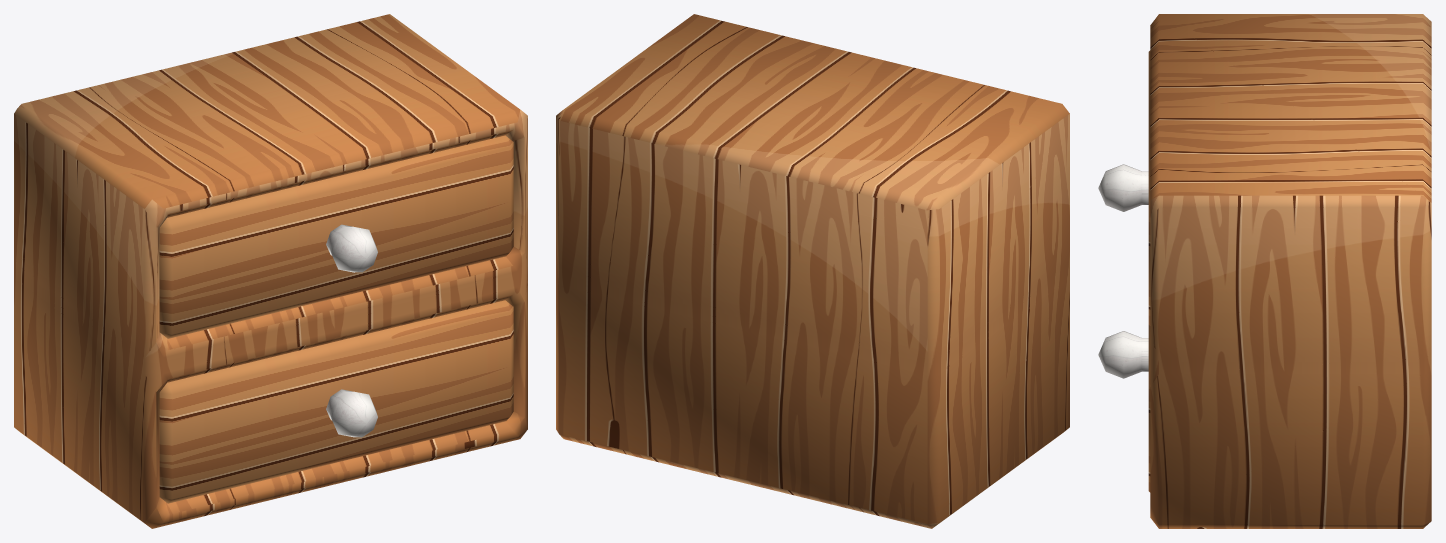
The model's file is cajonera.fbx.
The picture shows the model from 3 angles, left to right: view 1: azimuth 30°, elevation 25°; view 2: azimuth 150°, elevation 25°; view 3: azimuth 270°, elevation 25°; orthographic projection.
Visible parts, largest first — view 1: Cajonerita, CajoneritaCajon_Down, CajoneritaCajon_Top; view 2: Cajonerita; view 3: Cajonerita, CajoneritaCajon_Top, CajoneritaCajon_Down.
Boxes of the visible parts, x1,y1,x2,y2 form: Cajonerita: (14,14,527,528); CajoneritaCajon_Down: (159,300,513,503); CajoneritaCajon_Top: (159,135,513,338); Cajonerita: (556,14,1069,528); Cajonerita: (1150,14,1431,528); CajoneritaCajon_Top: (1098,50,1150,325); CajoneritaCajon_Down: (1098,325,1150,492).
Bounding box in the file's own units: 43.86 × 36.03 × 32.69.
